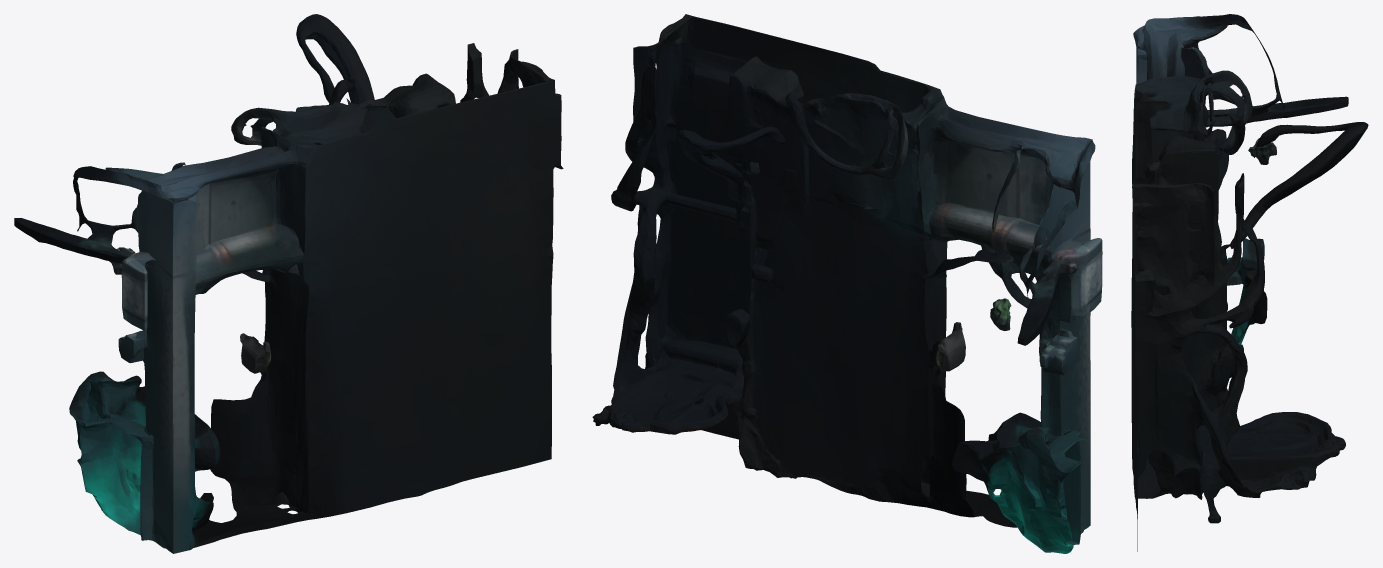
File: Passage (1)_compressed.glb
The picture shows the model from 3 angles, left to right: view 1: azimuth 30°, elevation 25°; view 2: azimuth 150°, elevation 25°; view 3: azimuth 270°, elevation 25°; orthographic projection. The views are drawn at different scales.
Visible parts, largest first — view 1: world; view 2: world; view 3: world.
Boxes of the visible parts, x1,y1,x2,y2 form: world: (14, 14, 563, 553); world: (592, 14, 1102, 553); world: (1131, 14, 1368, 551).
Size of the model in its own units: 0.9799 by 0.8281 by 0.4722.
1 material, 1 textured.
